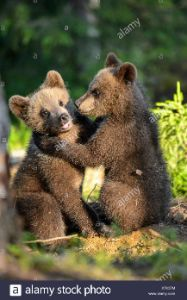bear: (73, 51, 180, 238), (5, 68, 104, 242)
